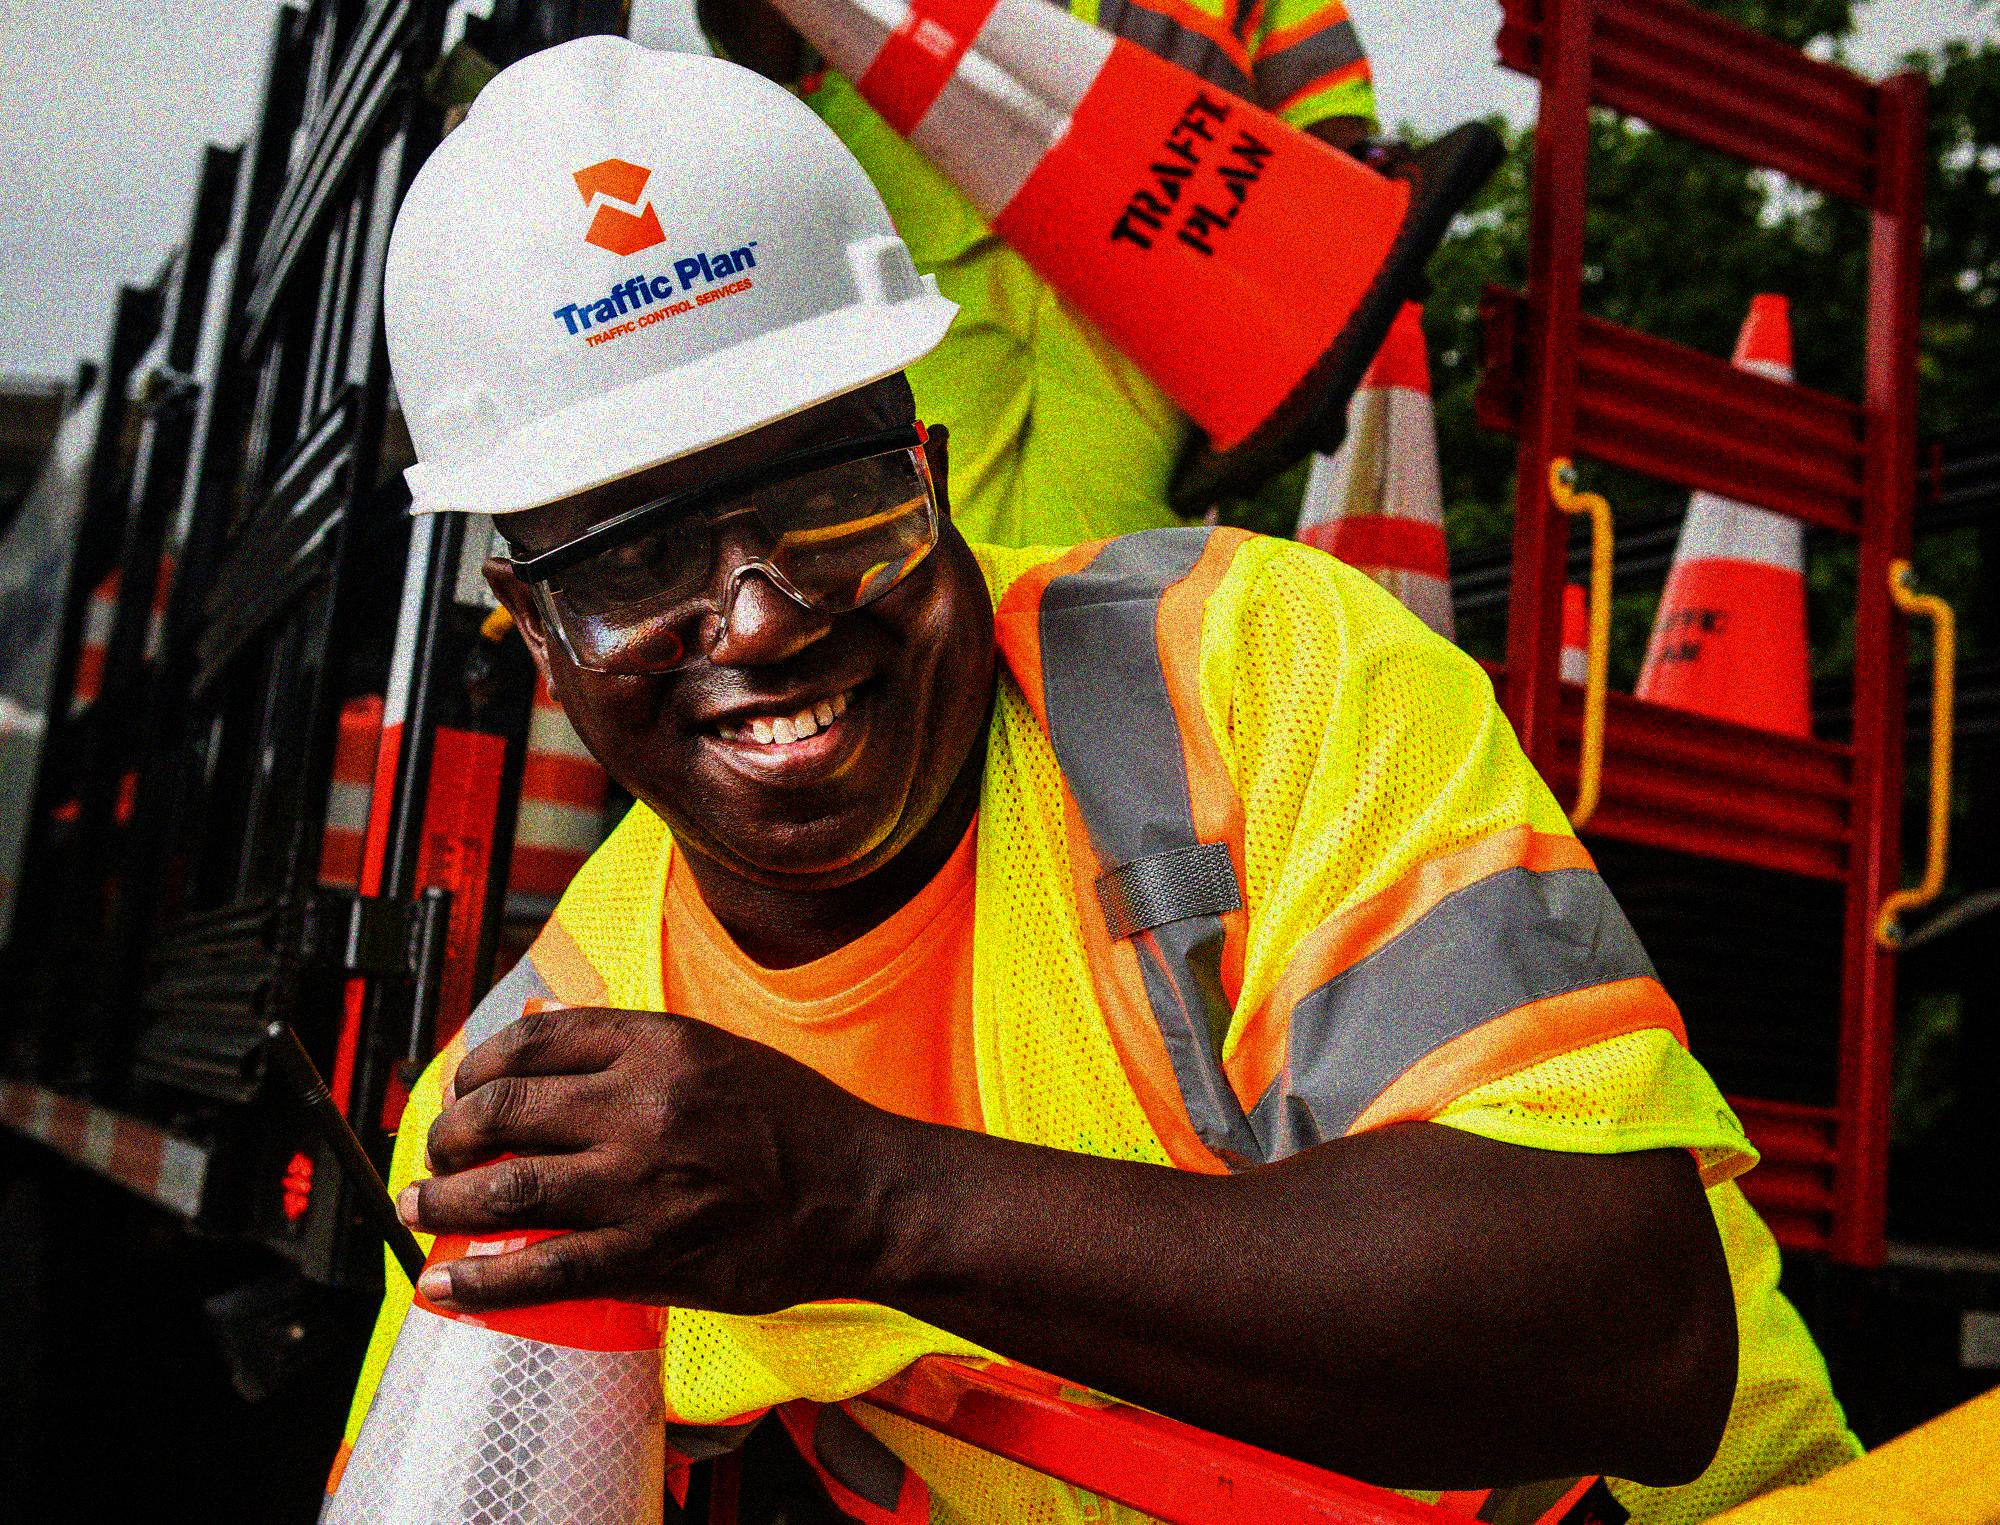helmet: (367, 29, 975, 887)
